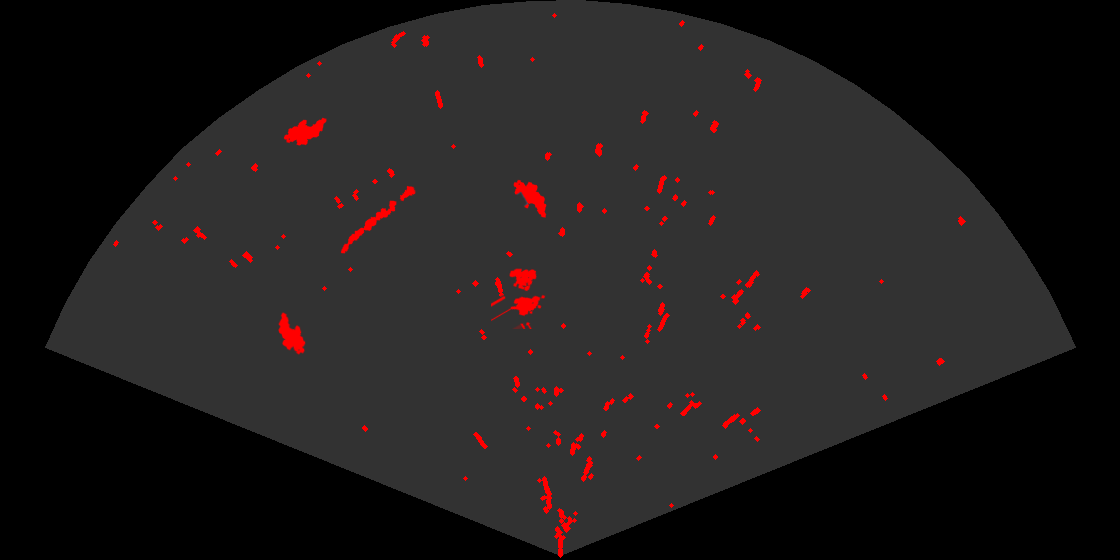AUV: (512, 178, 548, 219), (282, 116, 328, 147), (277, 311, 307, 356)
cage: (491, 267, 547, 329)
chain: (339, 184, 417, 255)
